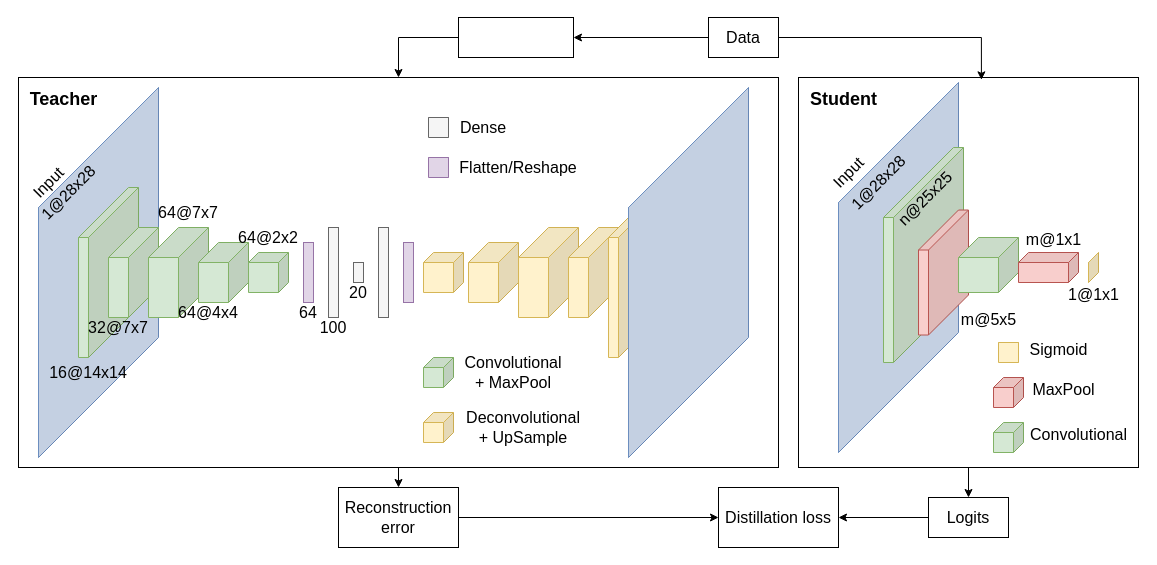
This 1157x565 diagram has some shape labels left out. The centre of each missing label's shape, as x and y in pixels:
"n@12x12" goes at point 943,272.
"Normal Data" goes at point 516,37.
